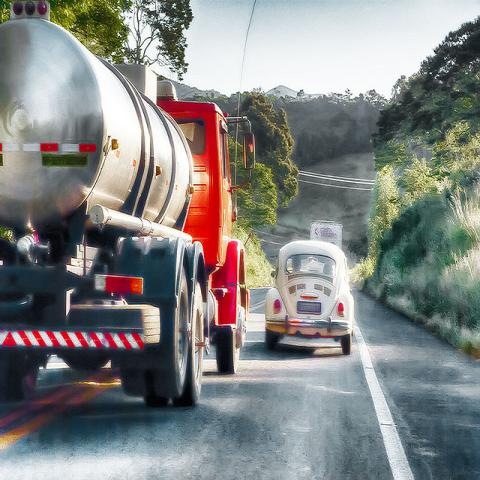car: (263, 238, 354, 360), (309, 262, 325, 270)
truck: (0, 1, 255, 408)
